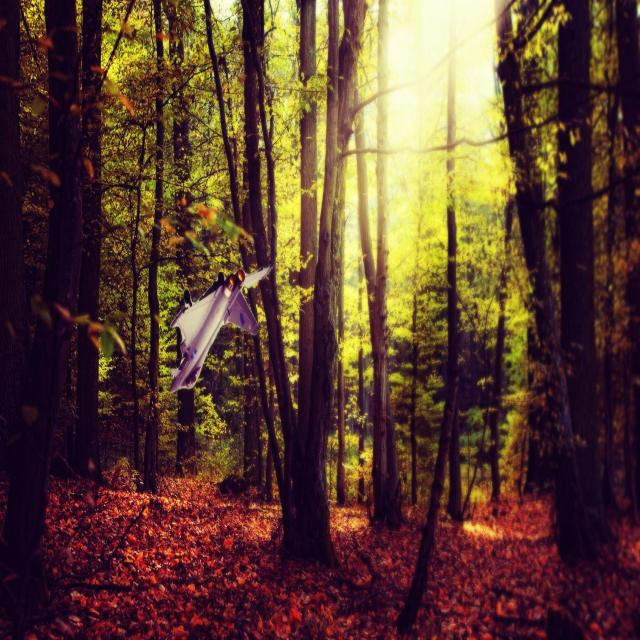airplane: (166, 262, 274, 393)
